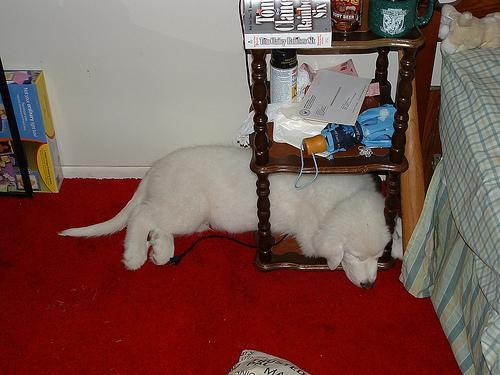Great_Pyrenees: (54, 140, 395, 292)
